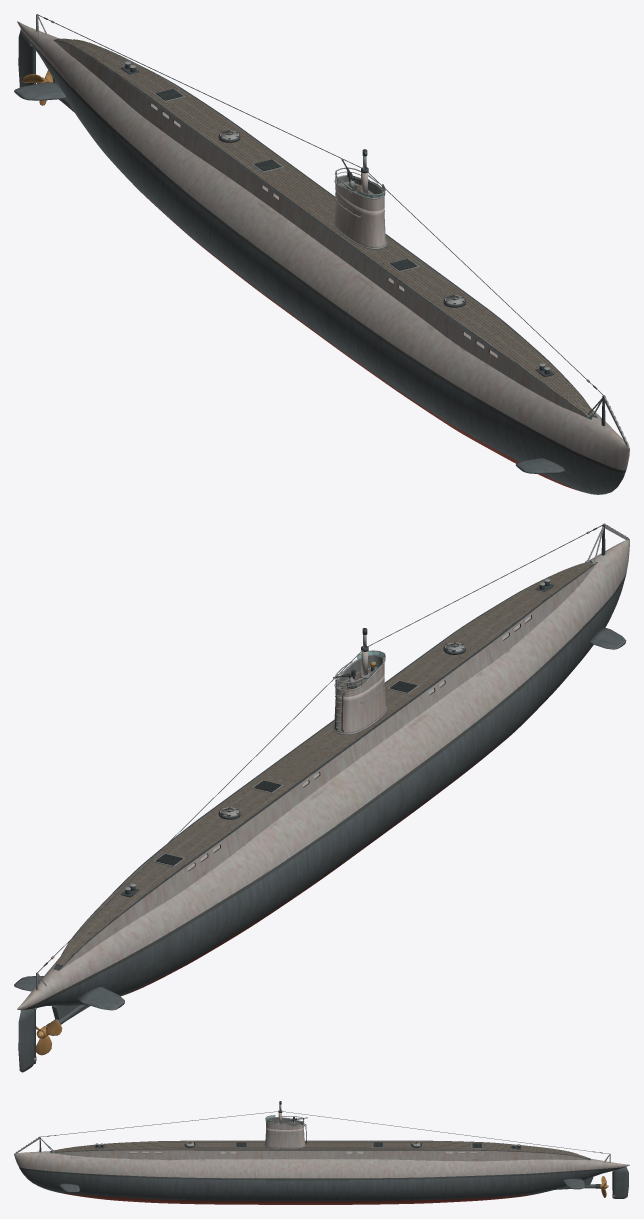
File: uboat-iib.glb
The picture shows the model from 3 angles, top to bottom: view 1: azimuth 30°, elevation 25°; view 2: azimuth 150°, elevation 25°; view 3: azimuth 270°, elevation 25°; orthographic projection. The views are drawn at different scales.
Parts seen in each view (by area): view 1: hull, Laid deck • staggered timber battens, deck_casing, conning_tower, bridge, jumping_wire, rudder, stern_planes; view 2: hull, Laid deck • staggered timber battens, deck_casing, conning_tower, rudder, stern_planes, jumping_wire, bridge; view 3: hull, deck_casing, Laid deck • staggered timber battens, conning_tower, jumping_wire, rudder, bridge, stern_planes.
Part boxes in pixels (x1,y1,x2,y2): hull: [17, 21, 629, 494]; Laid deck • staggered timber battens: [56, 38, 593, 415]; deck_casing: [53, 38, 597, 419]; conning_tower: [333, 188, 386, 247]; bridge: [335, 176, 384, 211]; jumping_wire: [37, 14, 602, 394]; rudder: [18, 29, 35, 100]; stern_planes: [14, 82, 66, 100]; hull: [17, 539, 629, 1010]; Laid deck • staggered timber battens: [56, 562, 593, 965]; deck_casing: [53, 560, 597, 970]; conning_tower: [333, 674, 386, 733]; rudder: [18, 1007, 36, 1072]; stern_planes: [14, 976, 124, 1010]; jumping_wire: [37, 524, 603, 972]; bridge: [335, 655, 384, 696]; hull: [14, 1151, 629, 1204]; deck_casing: [50, 1140, 590, 1161]; Laid deck • staggered timber battens: [53, 1141, 587, 1158]; conning_tower: [265, 1127, 305, 1148]; jumping_wire: [41, 1111, 609, 1153]; rudder: [612, 1167, 628, 1198]; bridge: [266, 1117, 304, 1129]; stern_planes: [563, 1178, 585, 1189].
Bounding box in the file's own units: 4.08 × 7.77 × 42.7.
Materials: 16 (16 with a texture image).
